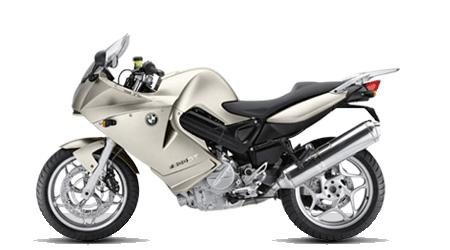摩托车: (30, 14, 404, 248)
